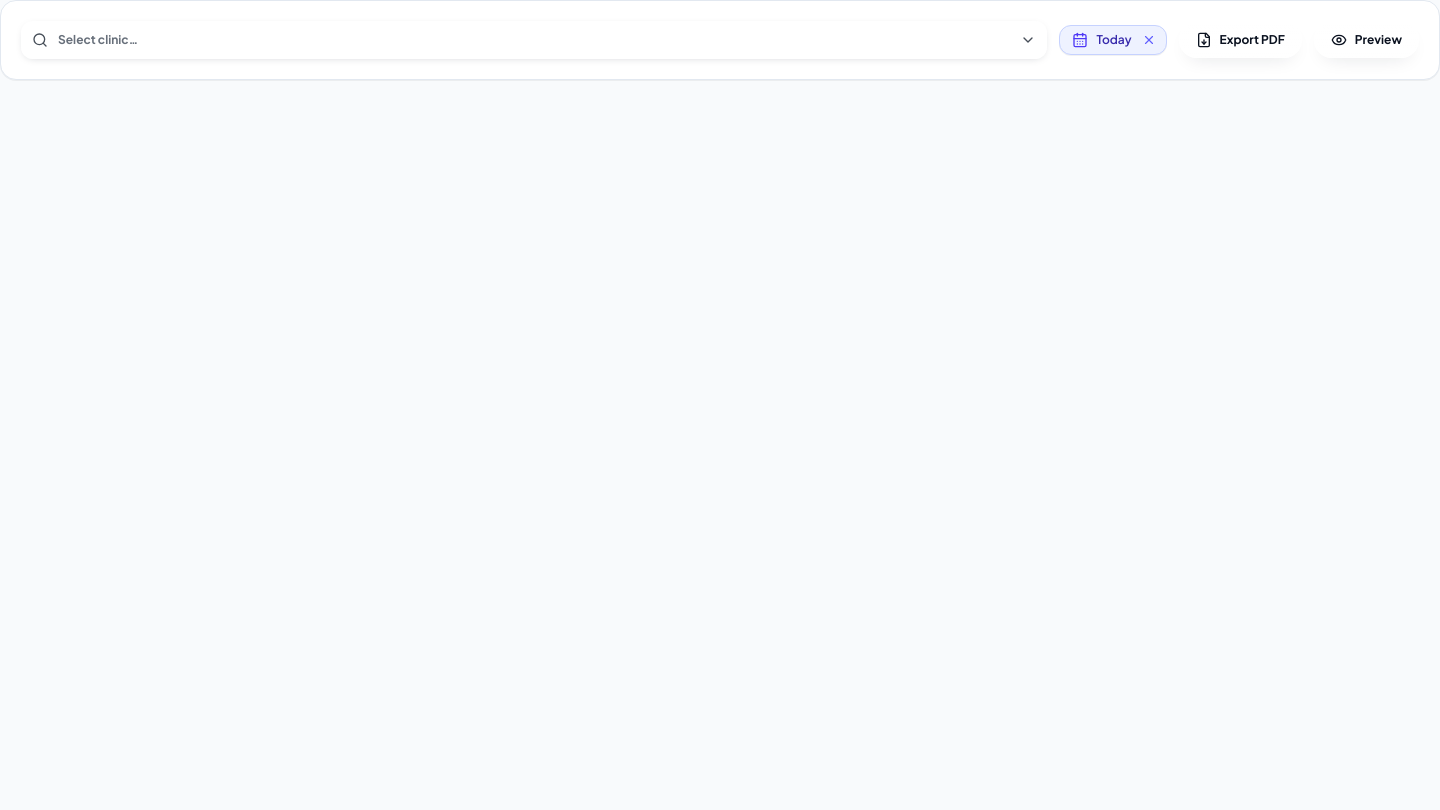
it: General Ledger preview: invoice settlement badge › marks an unpaid invoice Unpaid
The width and height of the screenshot is (1440, 810).
Click the dropdown "Select clinic…": [534, 40] box 21,21 -> 1047,59
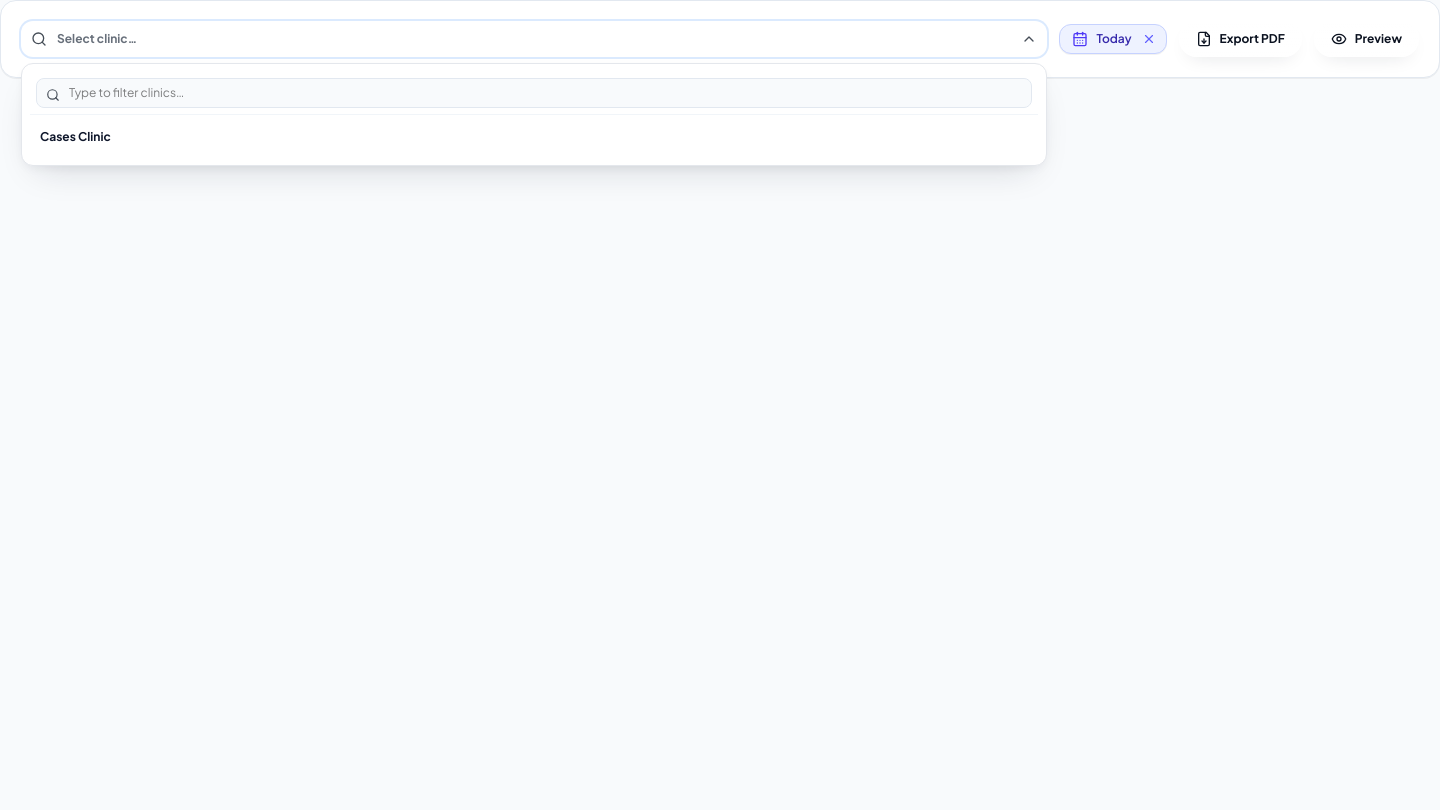
Click the option "Cases Clinic": [75, 136] box 30,119 -> 1038,157
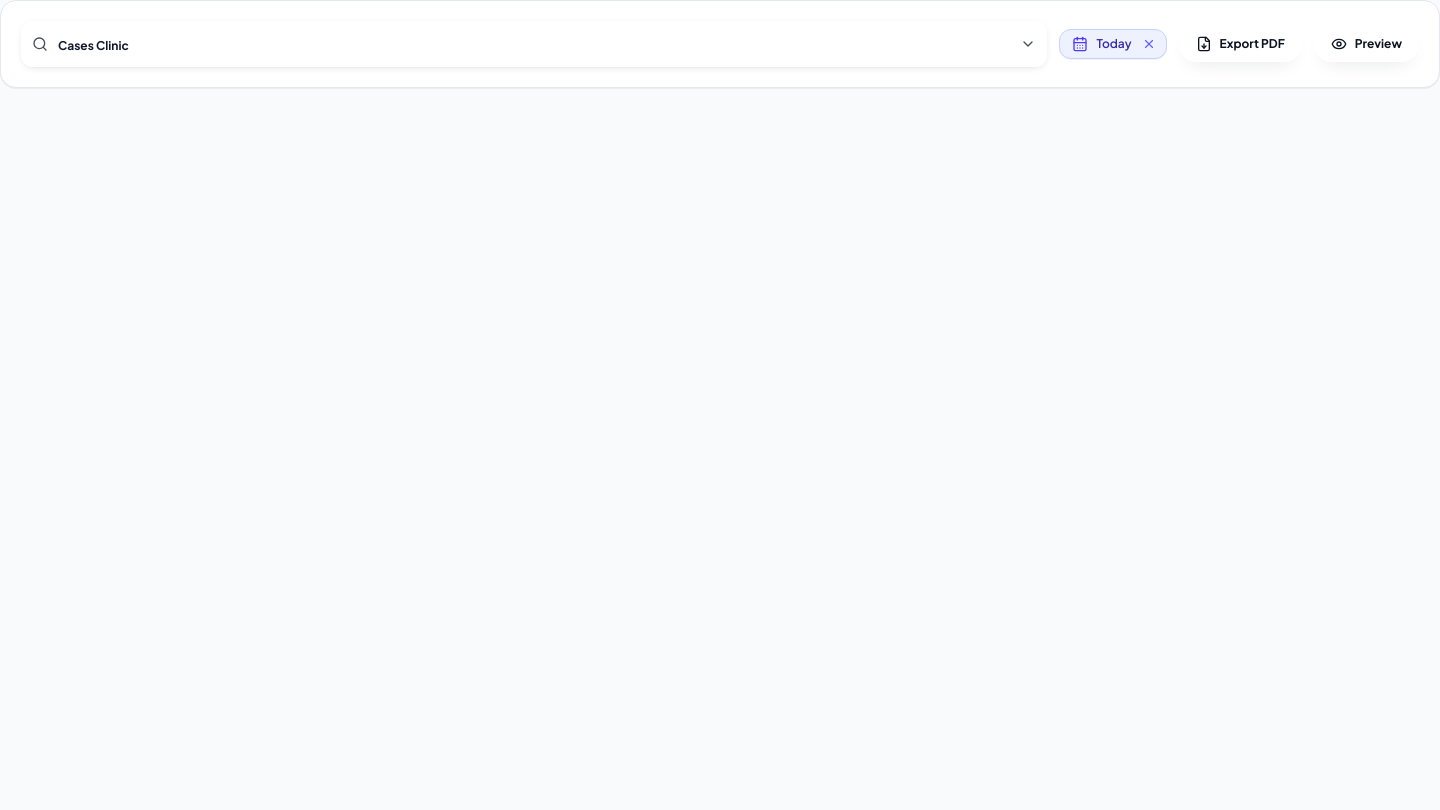
Click the button "Today": [1099, 44] box 1060,30 -> 1138,58
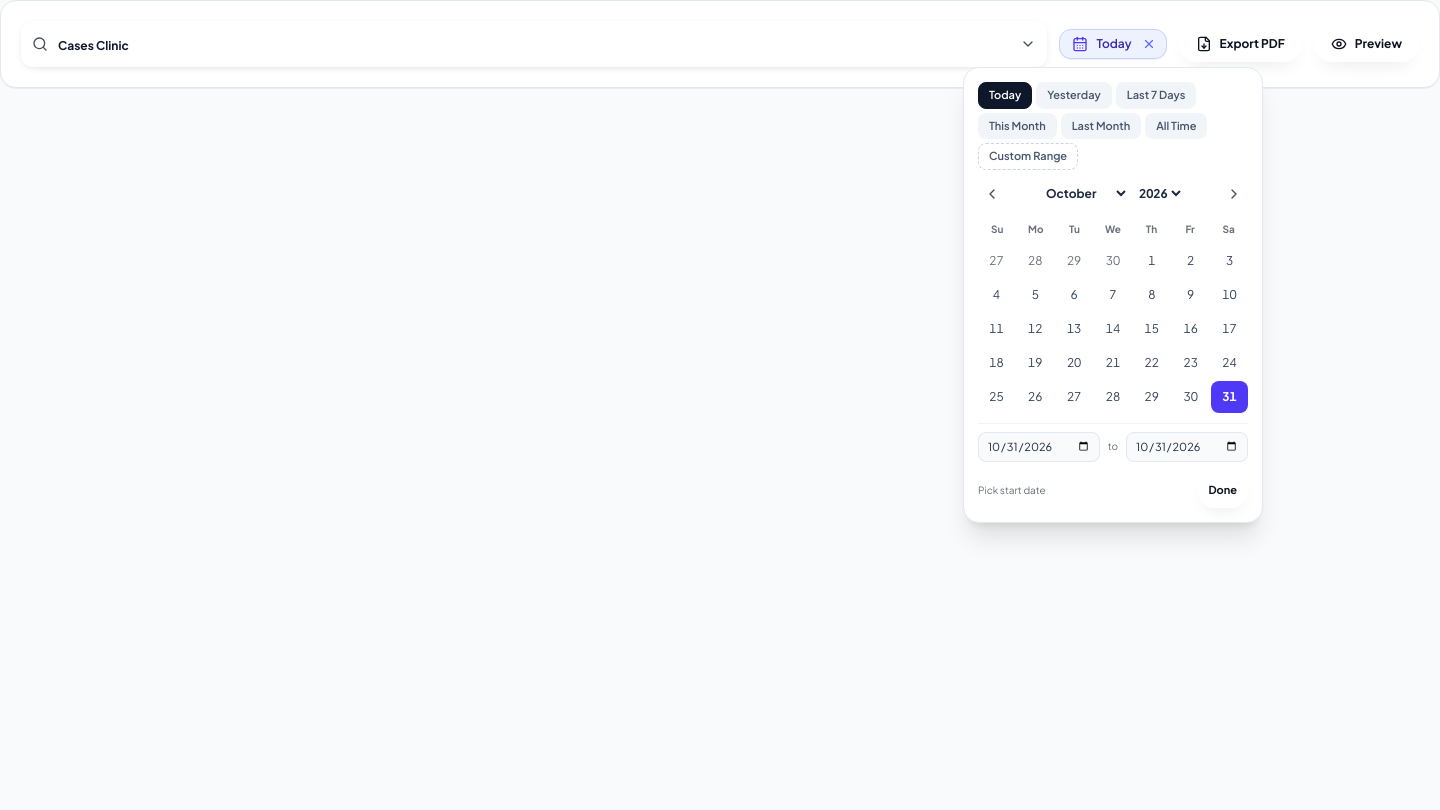
Click the button "All Time": [1176, 126] box 1145,112 -> 1207,139
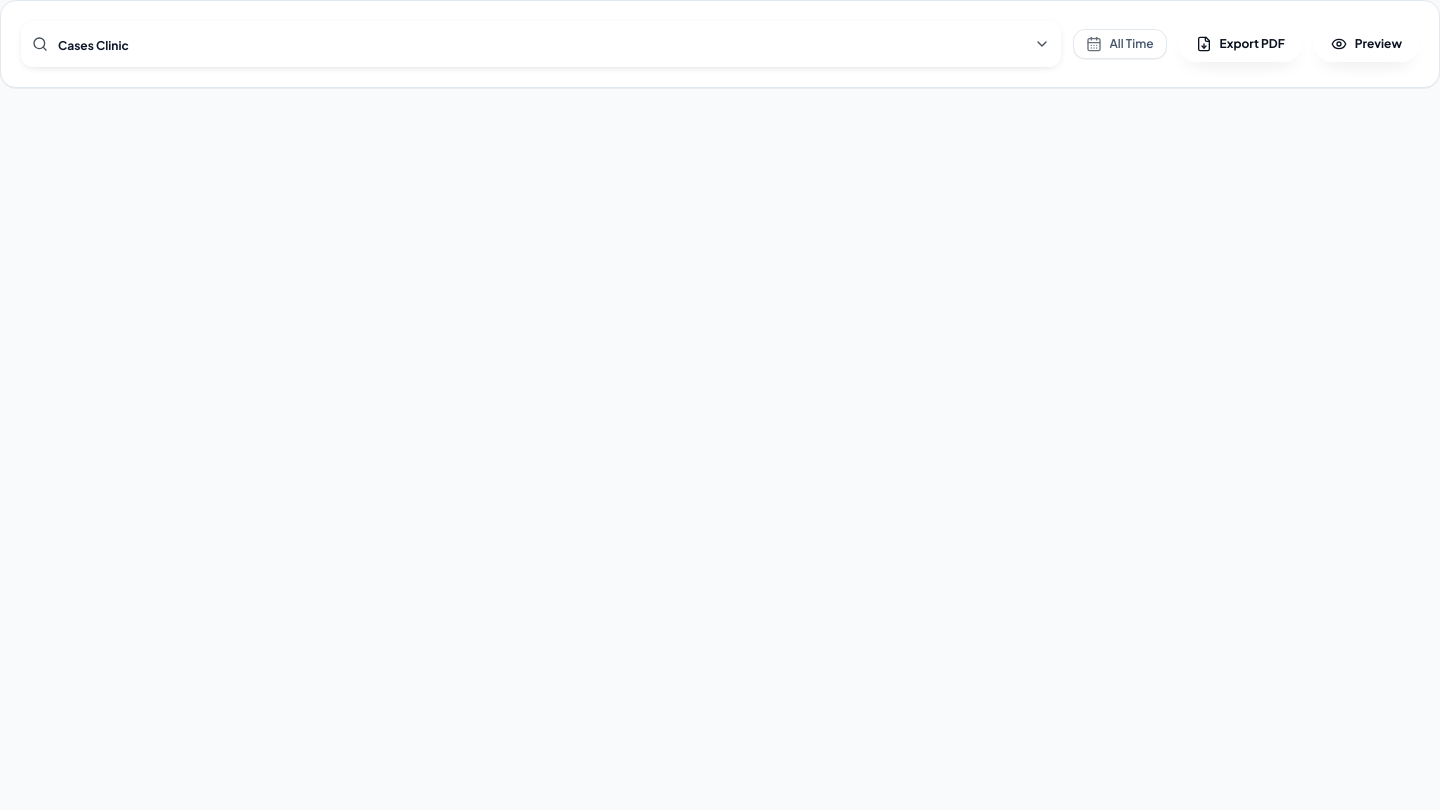
Click the button "Preview": [1366, 44] box 1314,26 -> 1419,62
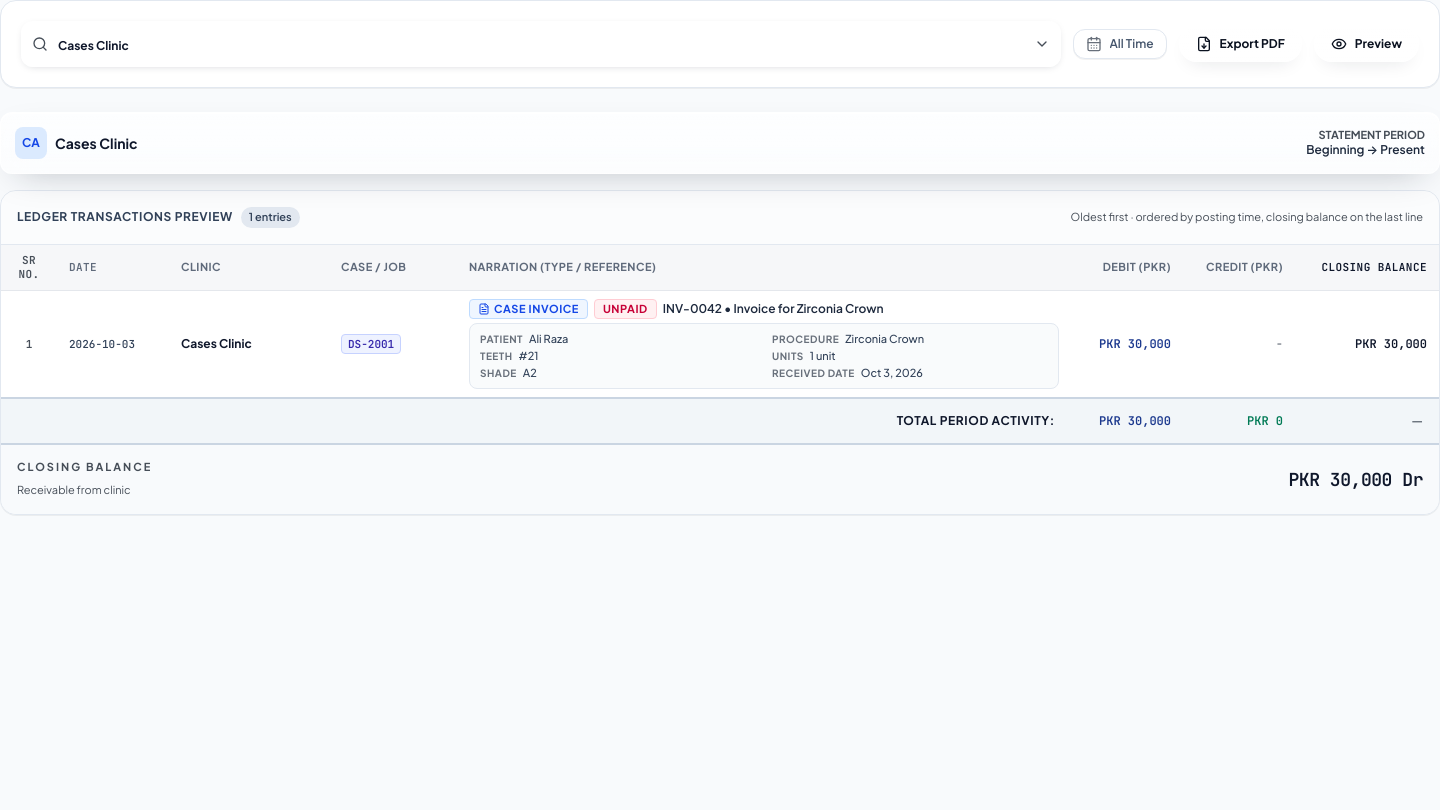
Expected: the text "Unpaid" is shown, 594,299 -> 657,320
